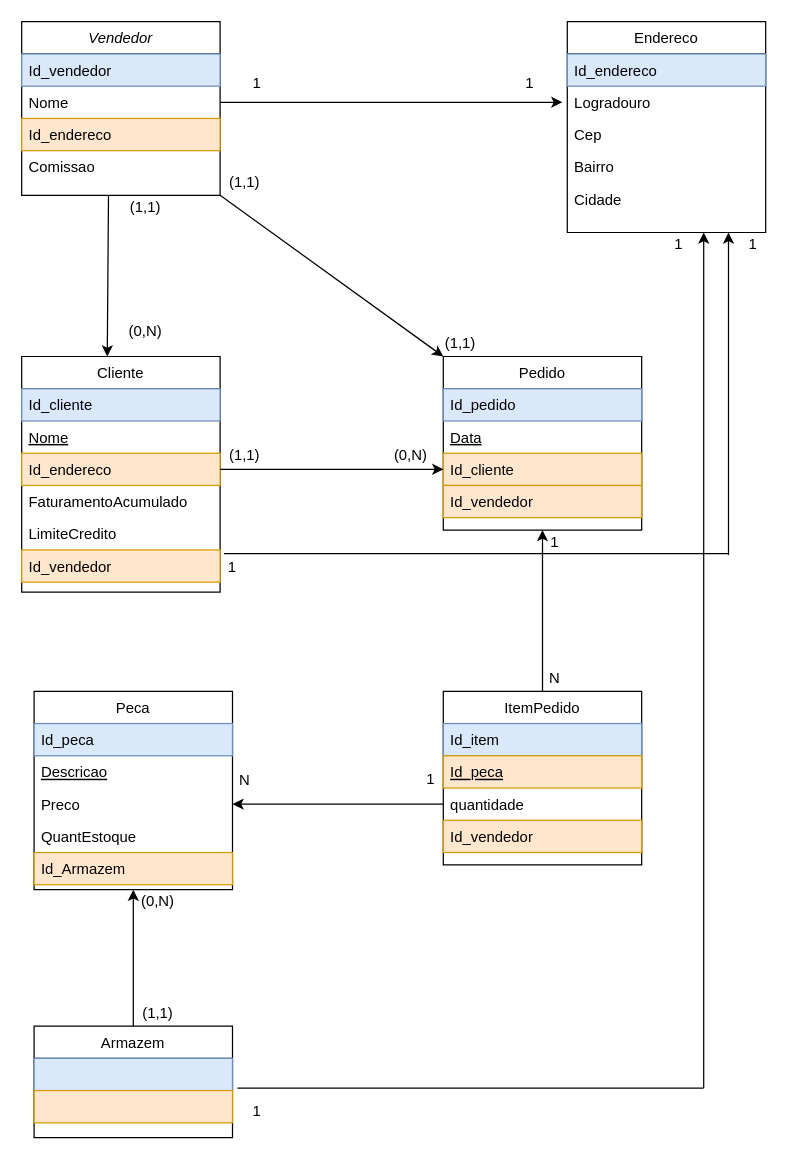
This 800x1159 diagram has some shape labels left out. The centre of each missing label's shape, as x and y in pixels:
Id_amazem: point (132, 1074)
Id_endreco: point (132, 1106)
